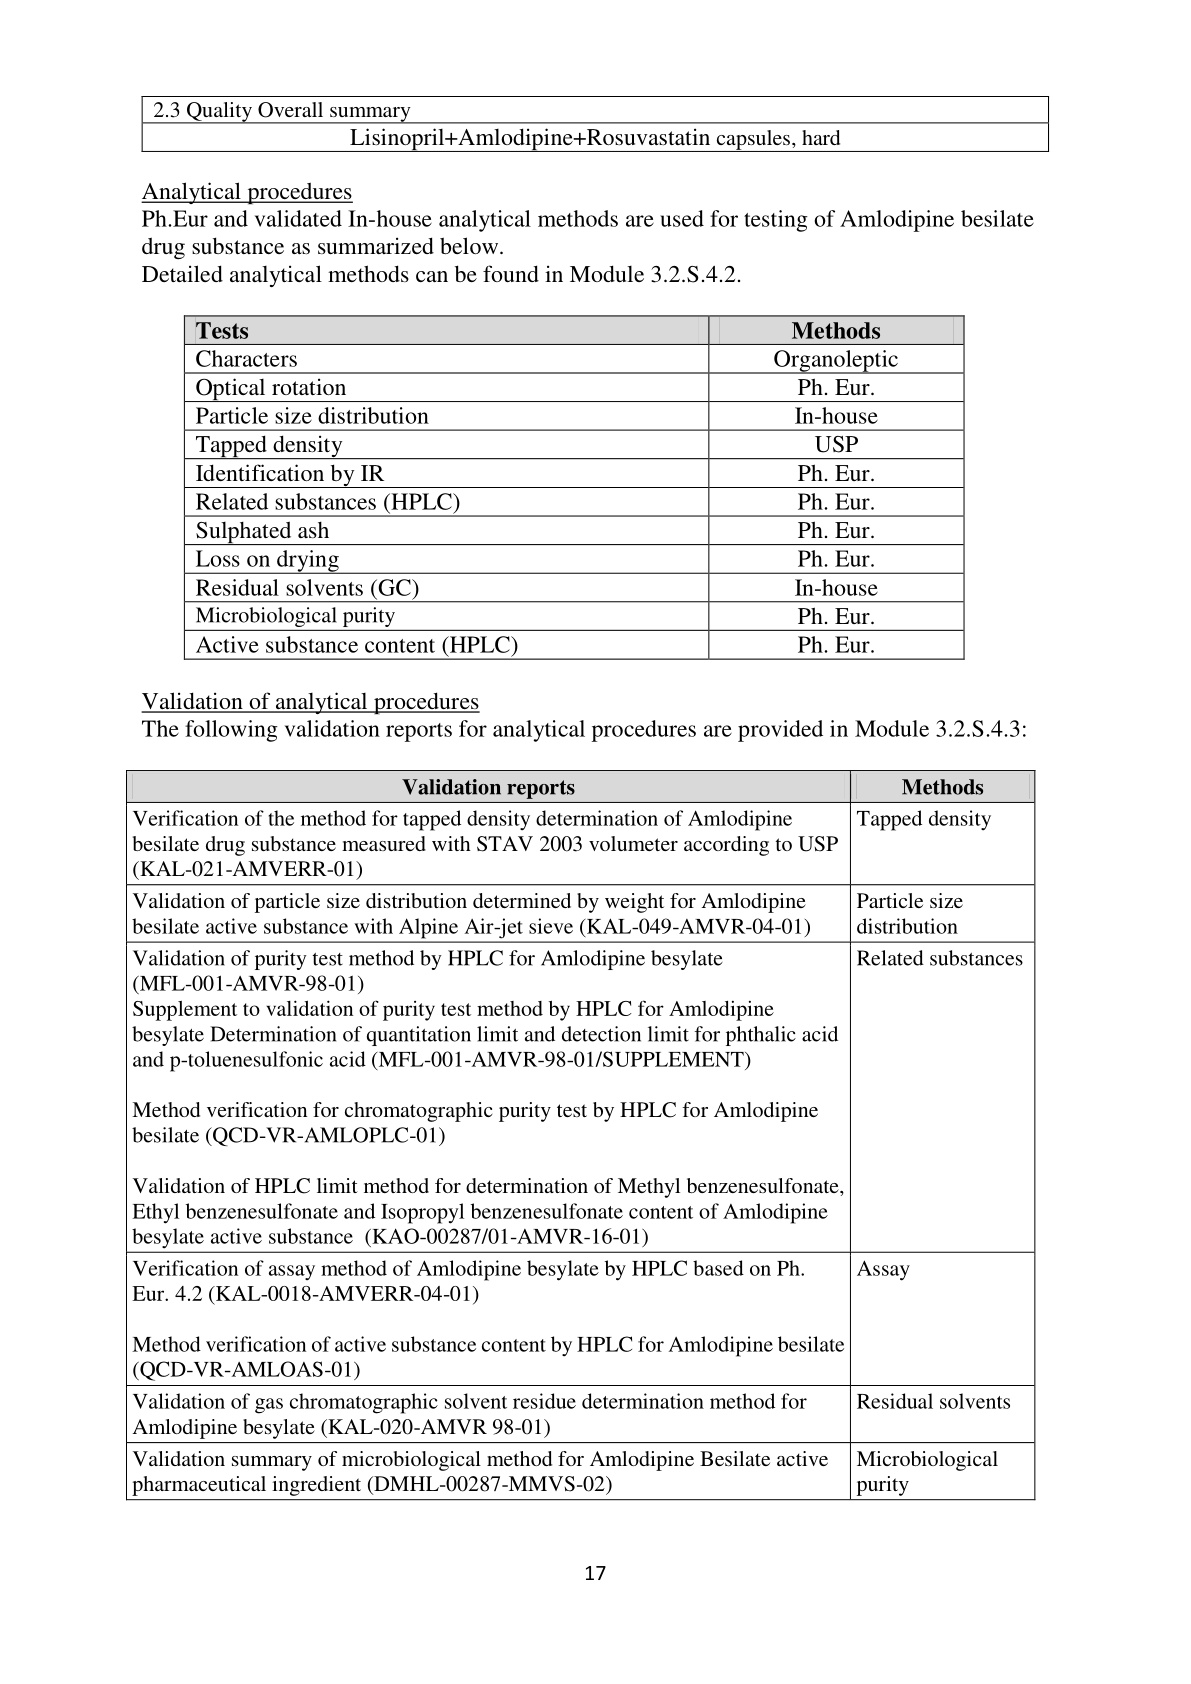full_lined: (125, 770, 1036, 1501), (183, 314, 965, 661), (140, 97, 1051, 153)
